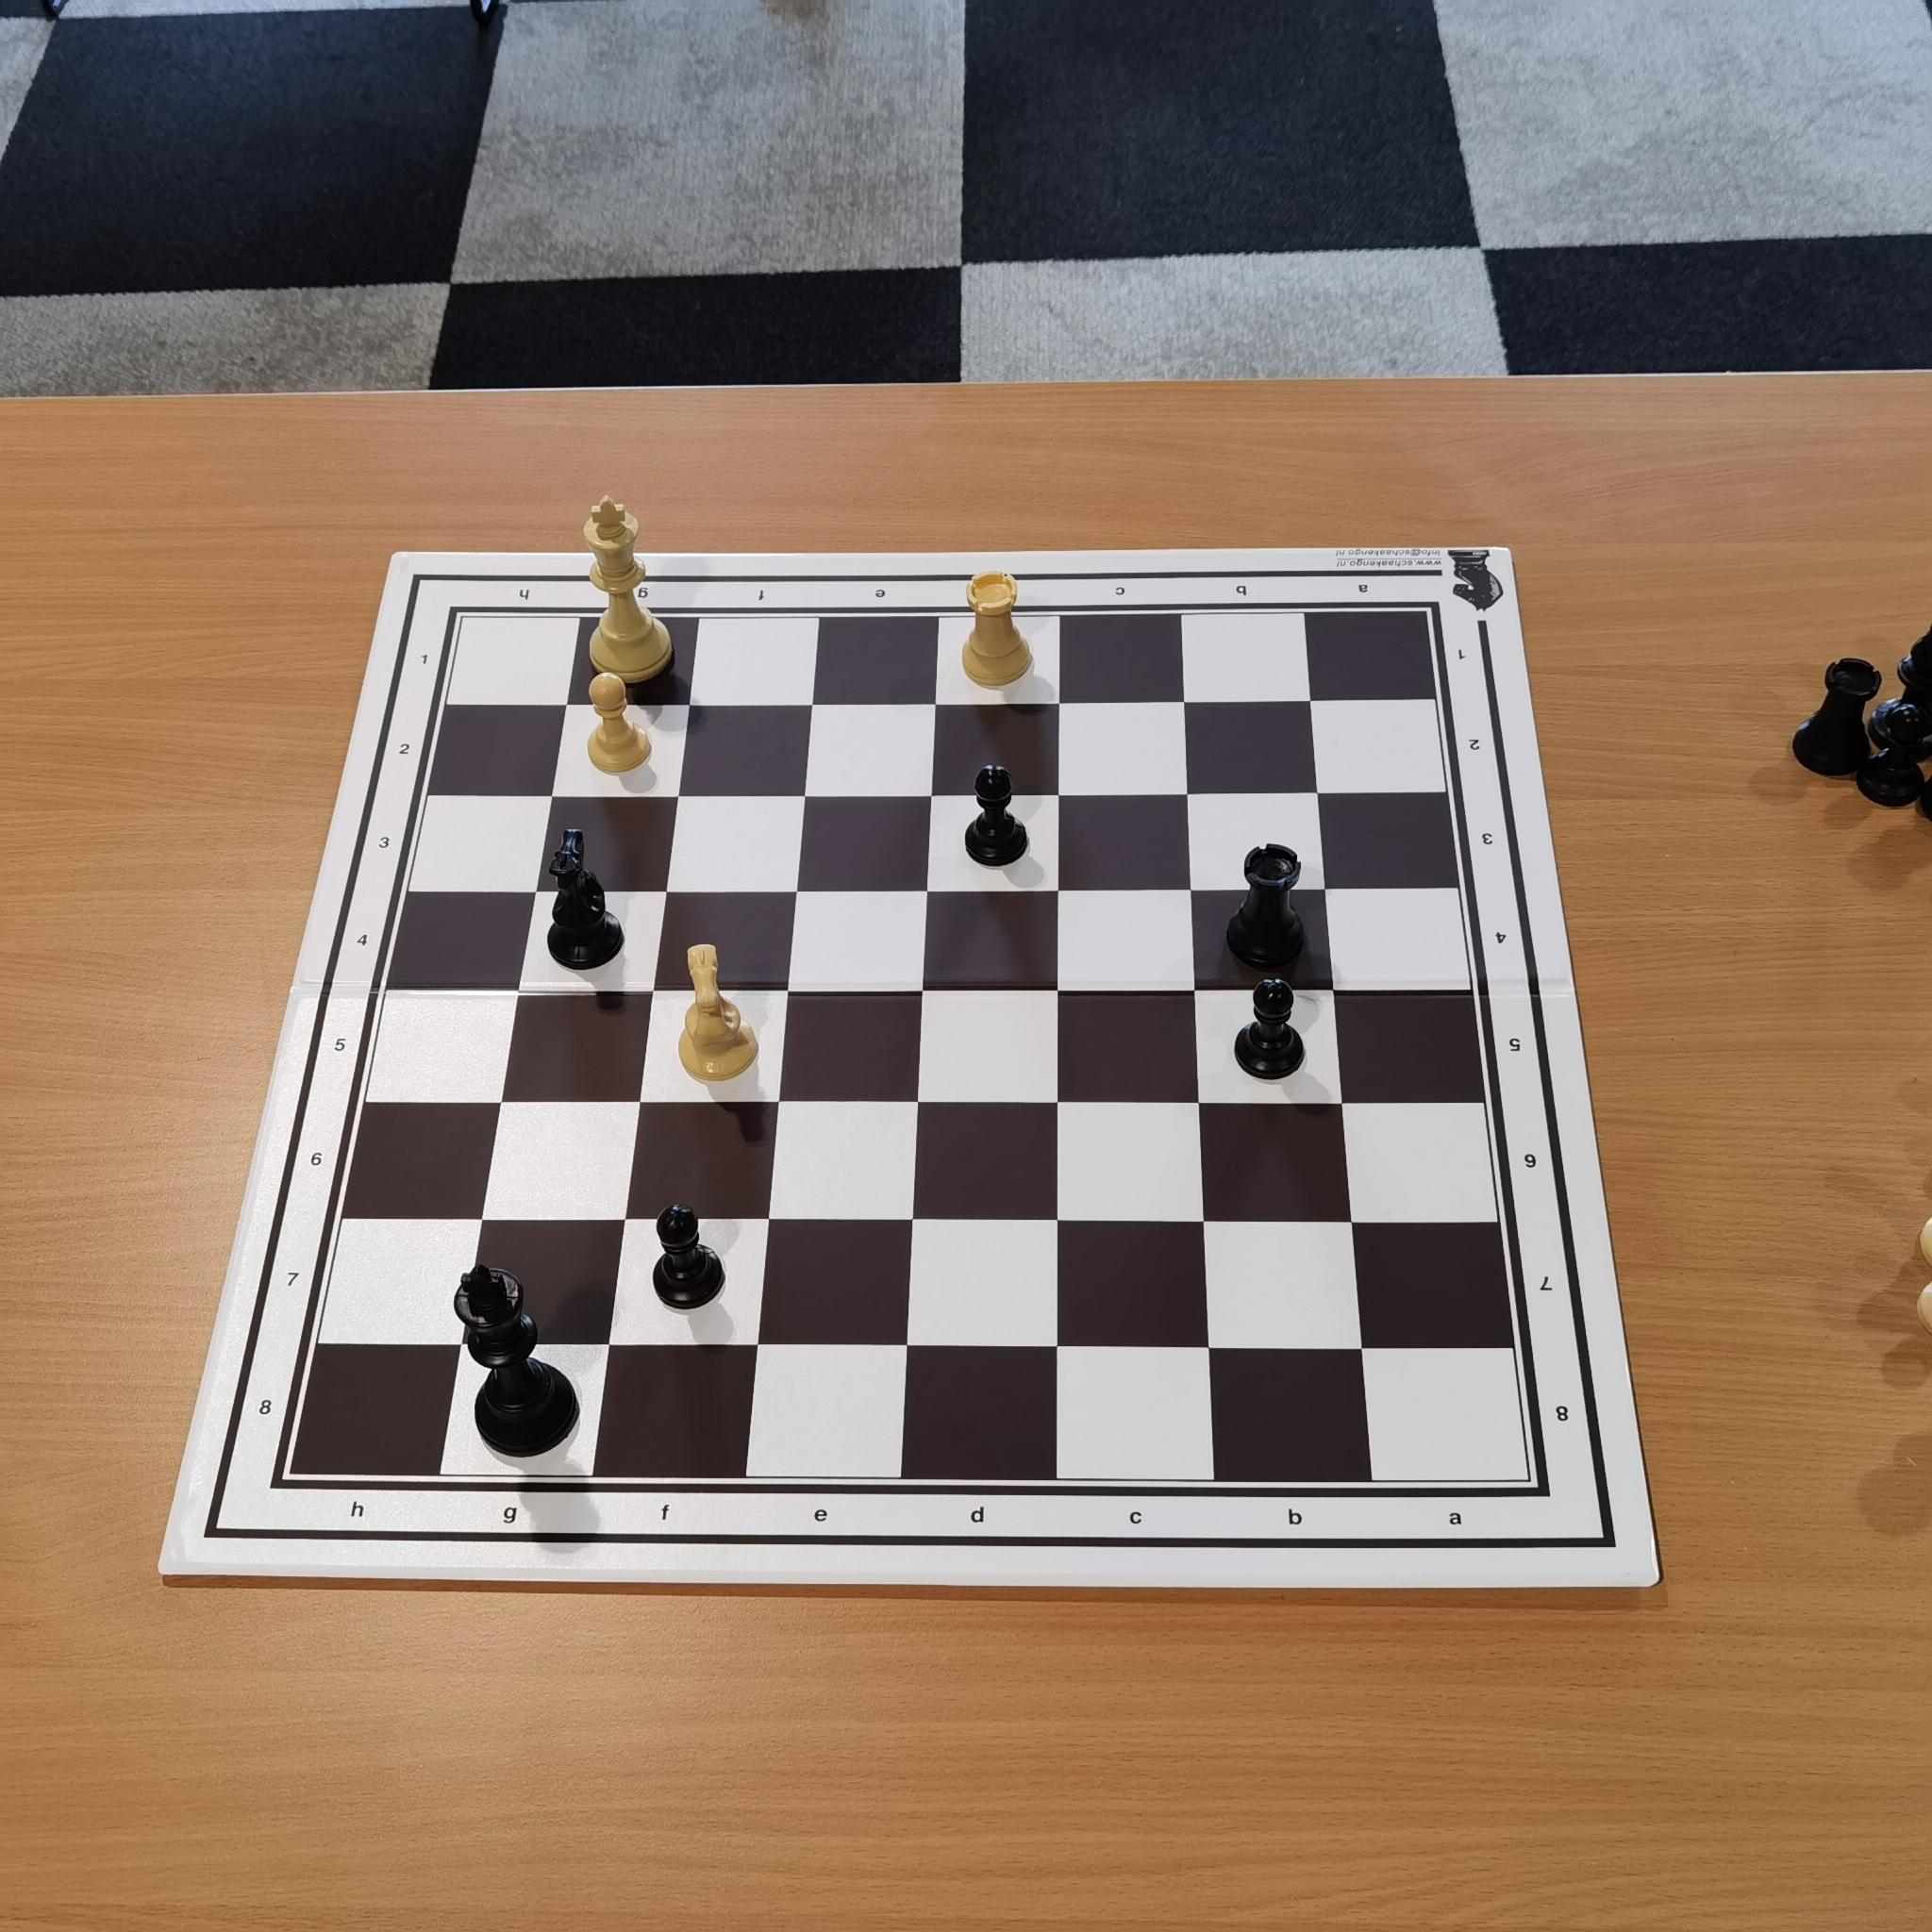corners: (265, 1444, 315, 1499), (1502, 1454, 1553, 1504), (1401, 589, 1454, 635), (435, 598, 481, 639)
eight: (249, 1380, 290, 1431), (1548, 1387, 1589, 1437)
one: (1442, 632, 1486, 678), (412, 637, 442, 678)
